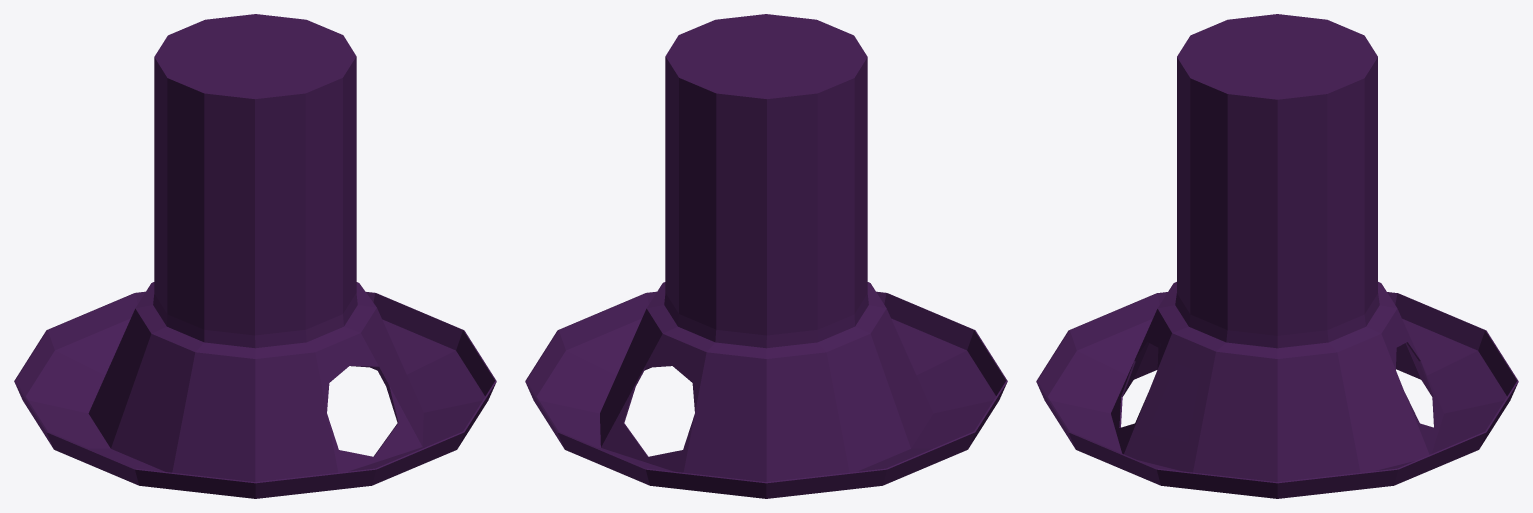
The model's file is Top Hat.fbx.
The picture shows the model from 3 angles, left to right: view 1: azimuth 30°, elevation 25°; view 2: azimuth 150°, elevation 25°; view 3: azimuth 270°, elevation 25°; orthographic projection.
Parts seen in each view (by area): view 1: Kettle BrimHat; view 2: Kettle BrimHat; view 3: Kettle BrimHat.
Boxes of the visible parts, x1,y1,x2,y2 form: Kettle BrimHat: (14,14,496,498); Kettle BrimHat: (525,14,1007,498); Kettle BrimHat: (1036,14,1518,498).
Size of the model in its own units: 133 by 109 by 133.
